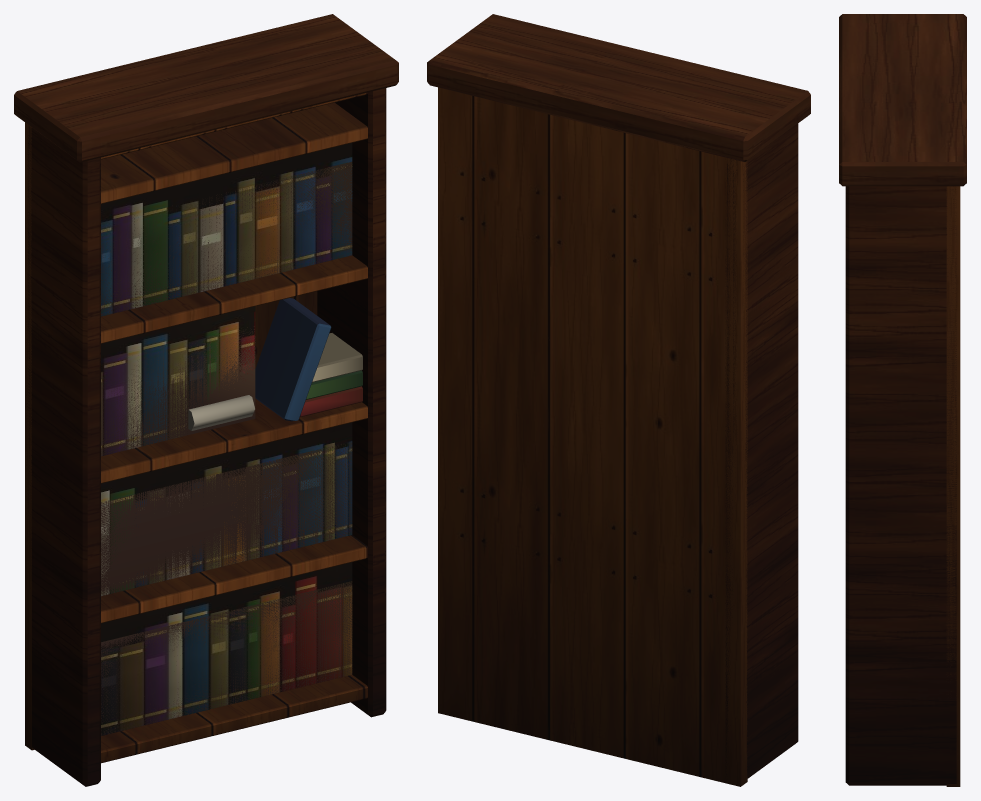
Rendered from interior_bookshelf.glb.
3 renders of one model, left to right at view 1: azimuth 30°, elevation 25°; view 2: azimuth 150°, elevation 25°; view 3: azimuth 270°, elevation 25°, orthographic. The views are drawn at different scales.
Parts seen in each view (by area): view 1: interior_bookshelf; view 2: interior_bookshelf; view 3: interior_bookshelf.
Part boxes in pixels (x1=…): interior_bookshelf: x1=14, y1=14, x2=398, y2=786; interior_bookshelf: x1=427, y1=14, x2=810, y2=786; interior_bookshelf: x1=839, y1=14, x2=966, y2=786.
Size of the model in its own units: 1.06 by 2.06 by 0.38.
4 materials, 3 textured.
